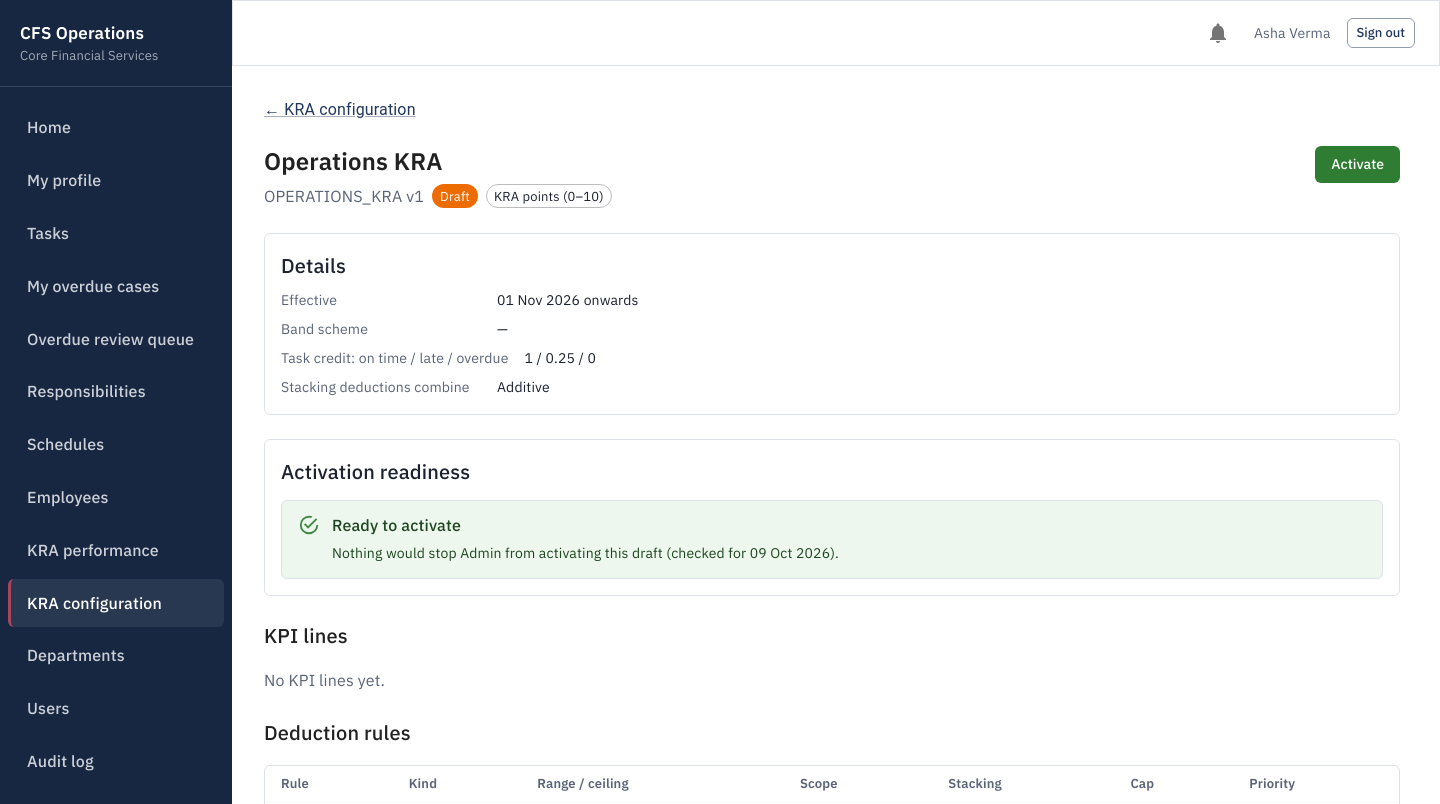
it: Plan lifecycle: Admin activates and retires (Phase 7.5A) › lists every problem when the server refuses the activation
Step 1. Click the button "Activate" → (1358, 164), box [1315, 146, 1400, 182]
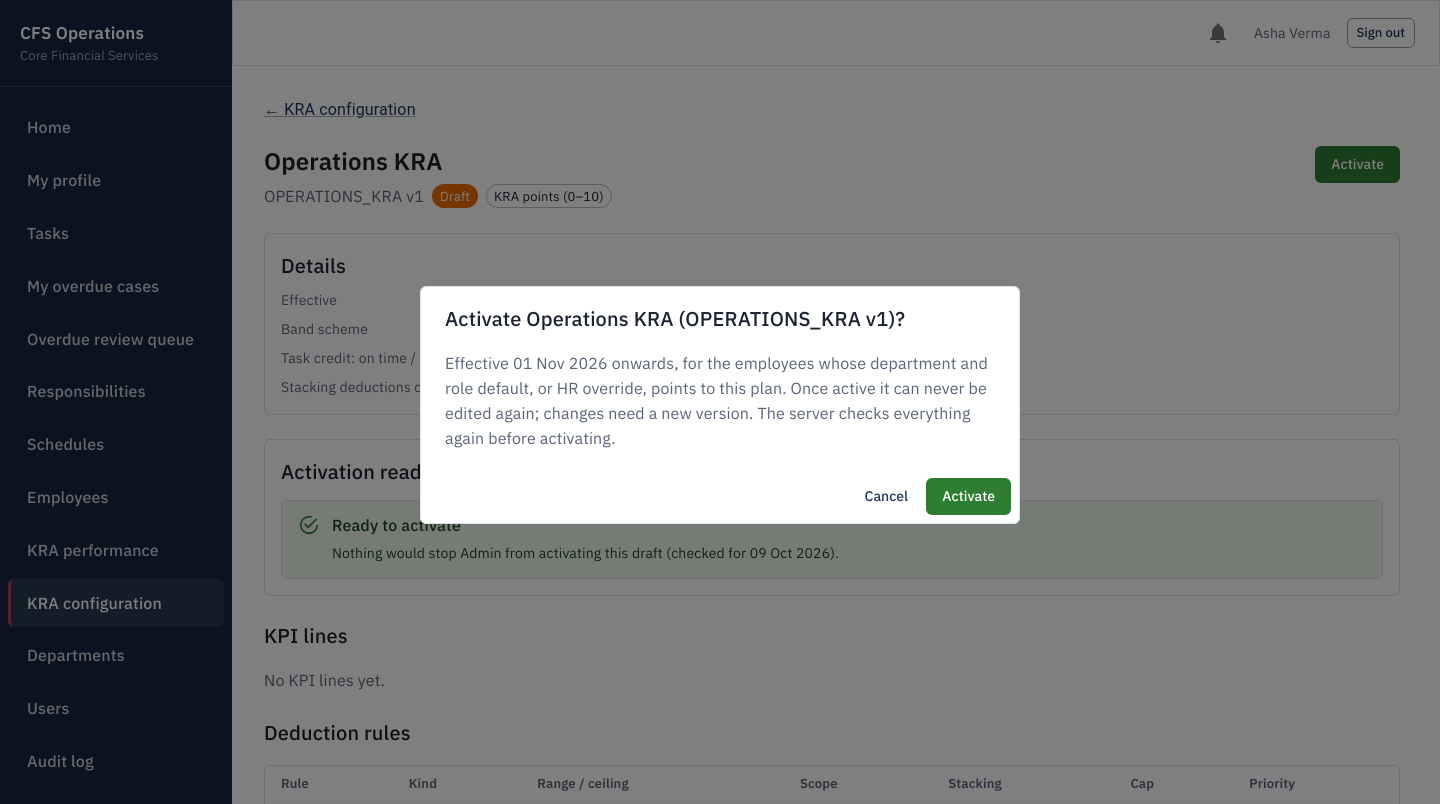
Step 2. Click the button "Activate" → (969, 497), box [926, 478, 1011, 515]
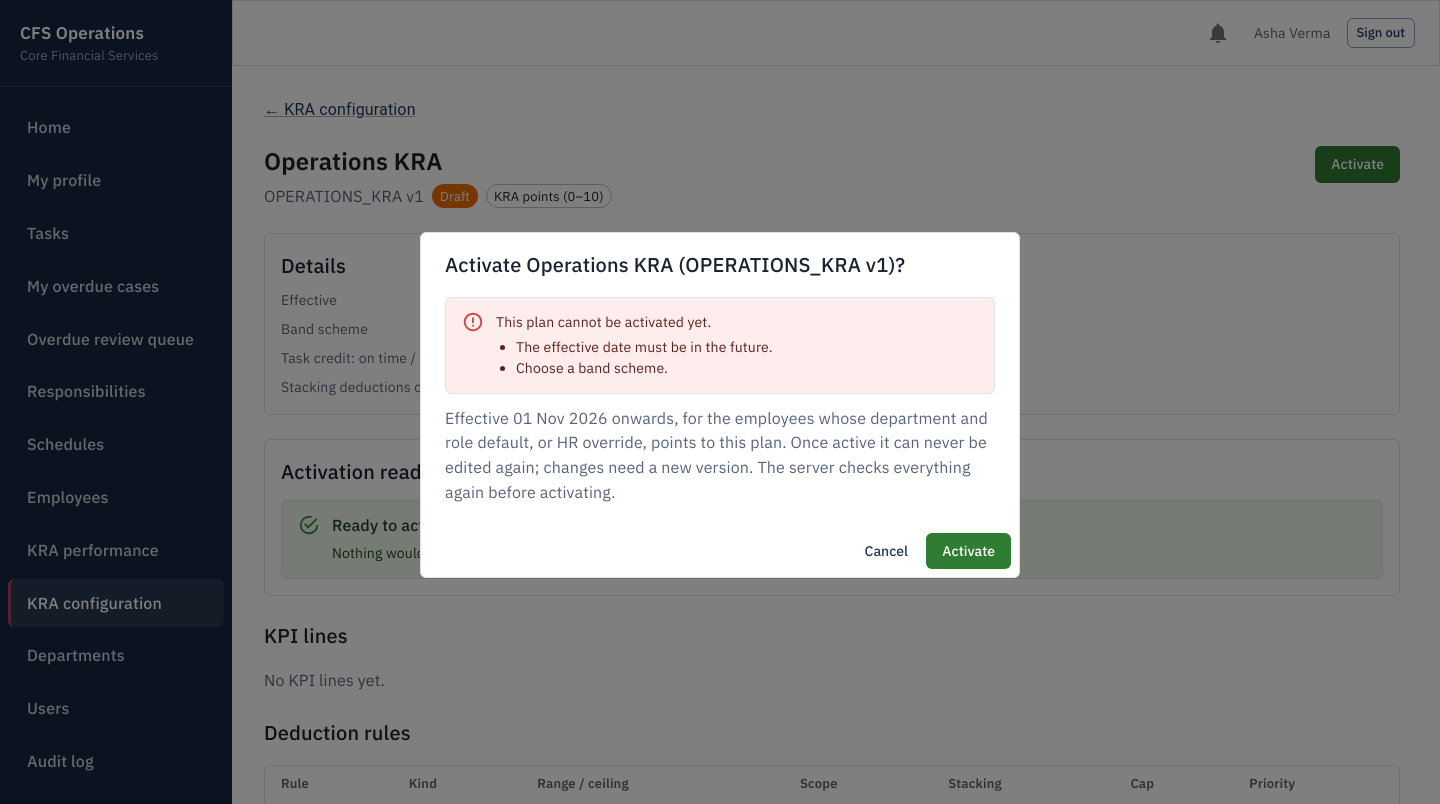
Now the message shows "This plan cannot be activated yet.", box [496, 313, 711, 331]
Now the message shows "The effective date must be in the future.", box [516, 338, 773, 356]
Now the message shows "Choose a band scheme.", box [516, 359, 668, 377]
